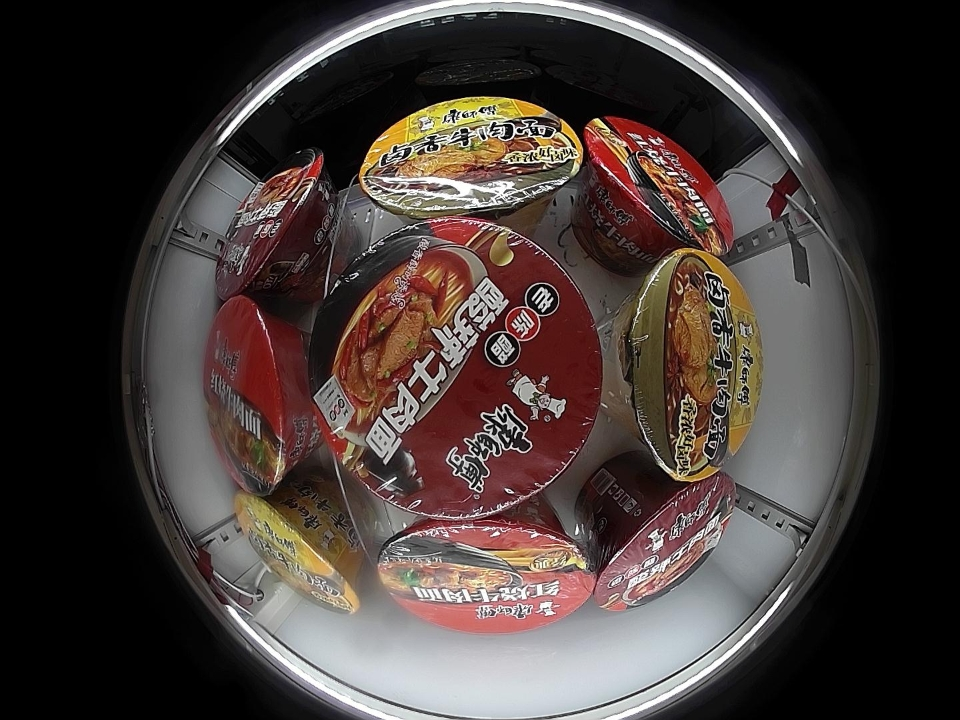hongshaoniurou: (376, 514, 595, 634), (205, 295, 313, 493), (581, 115, 733, 253)
luxiangniurou: (617, 247, 761, 481), (359, 95, 583, 222), (235, 490, 363, 616)
suanlaniurou: (310, 224, 607, 515), (591, 474, 737, 612), (215, 148, 333, 296)
